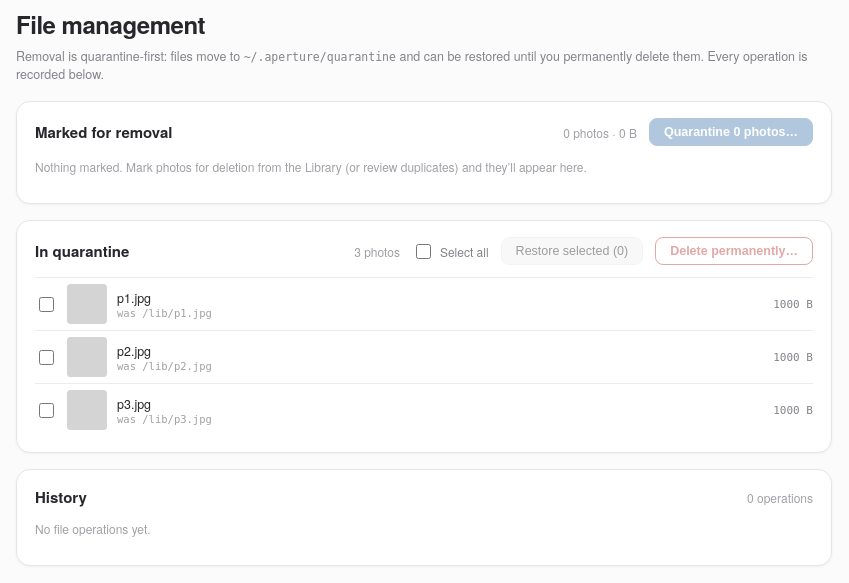
QuarantineView select all › select all checks every row and enables the actions
Click the checkbox named "Select all quarantined photos" at x=423, y=251, box [416,244,431,258]
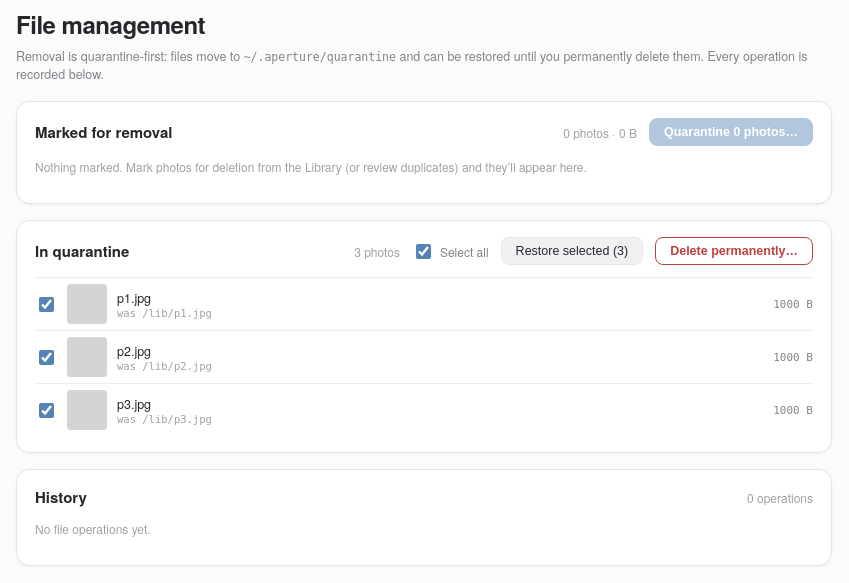
Now the 2nd checkbox with class "row-check" is checked, box [39,296,54,312]
Now the 3rd checkbox with class "row-check" is checked, box [39,350,54,364]
Now the 4th checkbox with class "row-check" is checked, box [39,402,54,418]
